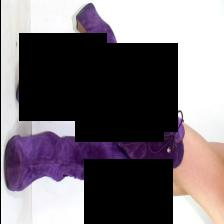purple: (4, 3, 183, 203)
